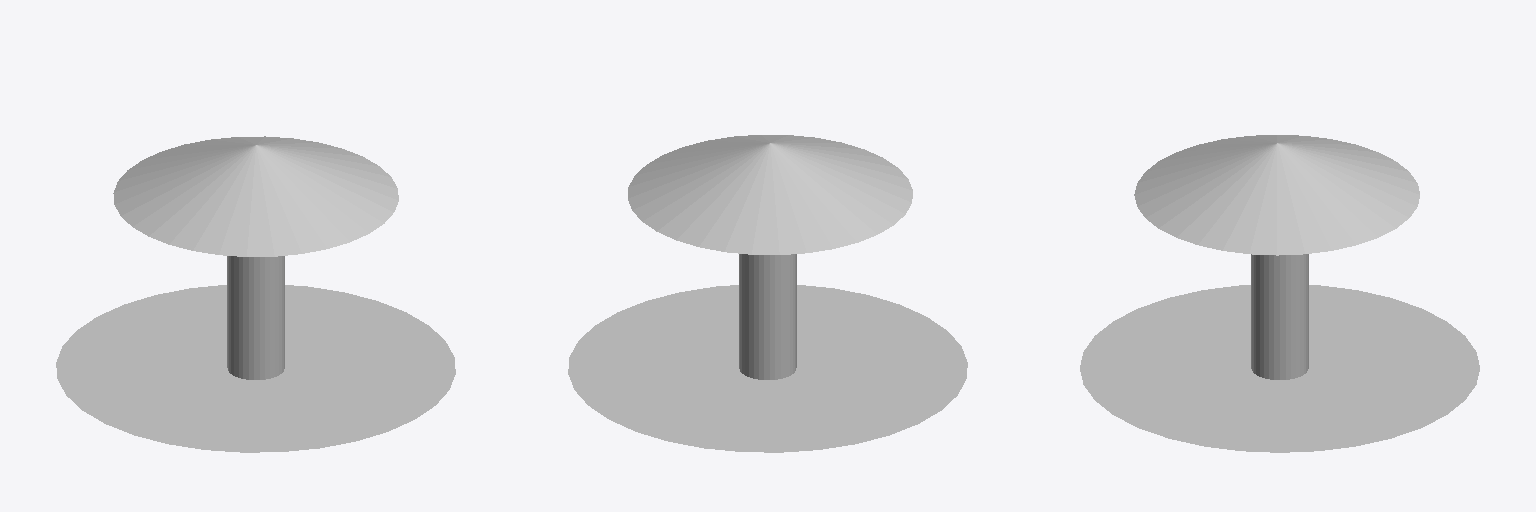
The model's file is pavillon.obj.
3 renders of one model, left to right at view 1: azimuth 30°, elevation 25°; view 2: azimuth 150°, elevation 25°; view 3: azimuth 270°, elevation 25°, orthographic.
Visible parts, largest first — view 1: Cone; view 2: Cone; view 3: Cone.
Boxes of the visible parts, x1=… form: Cone: x1=56, y1=136, x2=455, y2=452; Cone: x1=568, y1=135, x2=967, y2=452; Cone: x1=1080, y1=135, x2=1479, y2=452.
Size of the model in its own units: 14 by 8.66 by 14.